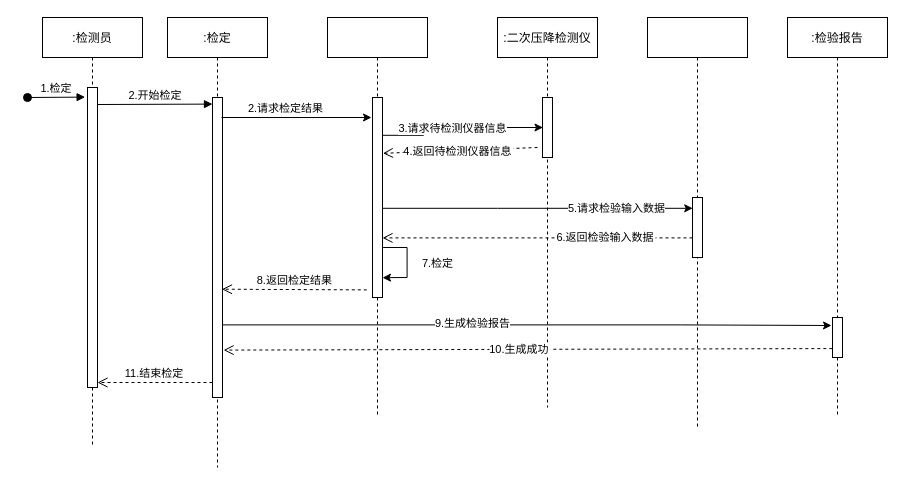
Image size: 905x485. Some labels were removed from this diagram. Here are the shapes that lost their labels. From the top down, the box of each, then its label:
(326, 16, 428, 418): :检定结果
(646, 16, 748, 428): :检验输入数据
